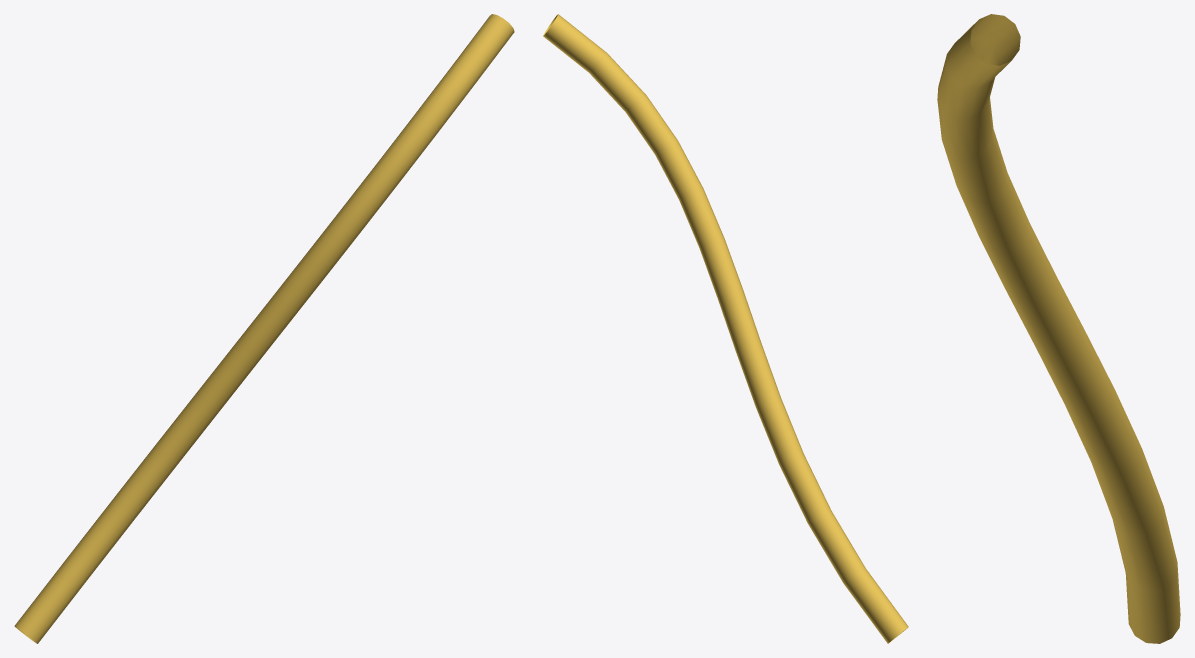
File: Posterior_division_middle_trunk_brachial_plexus_right.glb
3 views of the same model, side by side, from view 1: azimuth 30°, elevation 25°; view 2: azimuth 150°, elevation 25°; view 3: azimuth 270°, elevation 25° (orthographic). The views are drawn at different scales.
Visible parts, largest first — view 1: Posterior_division_of_middle_trunk_of_brachial_plexus.r_Bezi; view 2: Posterior_division_of_middle_trunk_of_brachial_plexus.r_Bezi; view 3: Posterior_division_of_middle_trunk_of_brachial_plexus.r_Bezi.
Part boxes in pixels (x1,y1,x2,y2): Posterior_division_of_middle_trunk_of_brachial_plexus.r_Bezi: (14,14,514,643); Posterior_division_of_middle_trunk_of_brachial_plexus.r_Bezi: (543,14,908,643); Posterior_division_of_middle_trunk_of_brachial_plexus.r_Bezi: (937,14,1180,643).
Bounding box in the file's own units: 0.0172 × 0.0206 × 0.0046.
